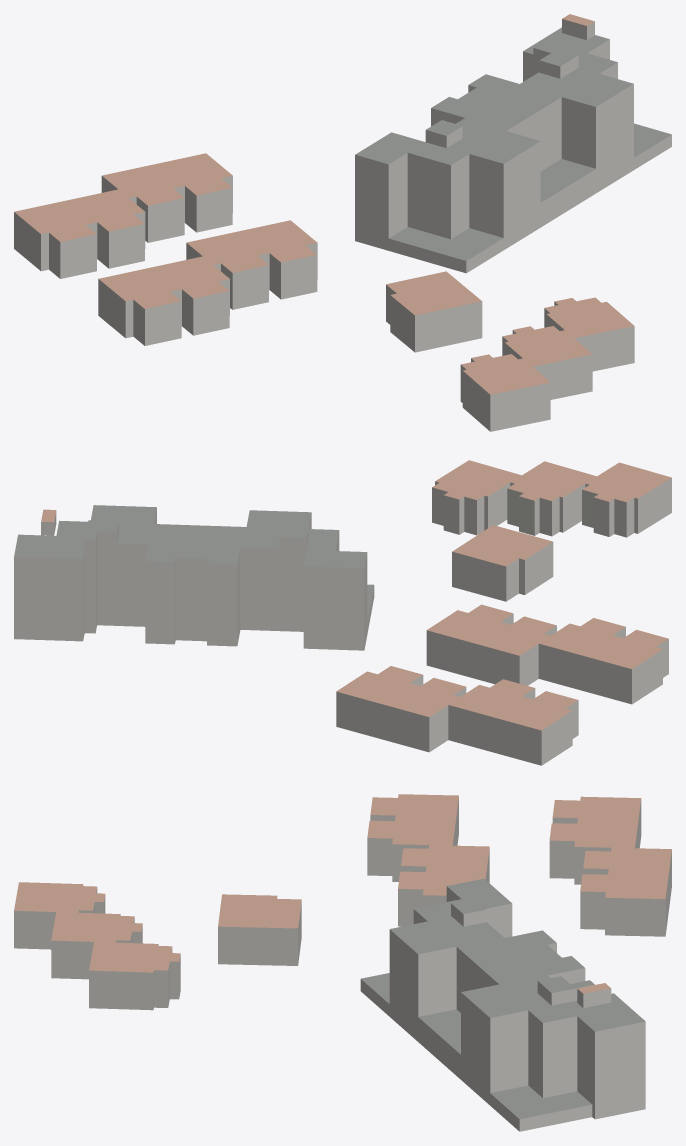
The model's file is gridID_19.dae.
The picture shows the model from 3 angles, top to bottom: view 1: azimuth 30°, elevation 25°; view 2: azimuth 150°, elevation 25°; view 3: azimuth 270°, elevation 25°; orthographic projection. The views are drawn at different scales.
Visible parts, largest first — view 1: model_gridID_19_w400178620, model_gridID_19_w389699491_001, model_gridID_19_w389699492_001, model_gridID_19_w389699491, model_gridID_19_w389699492, model_gridID_19_w389699502, model_gridID_19_w389699493, model_gridID_19_w389699489_001, model_gridID_19_w389699489; view 2: model_gridID_19_w400178620, model_gridID_19_w389699492_001, model_gridID_19_w389699491_001, model_gridID_19_w389699492, model_gridID_19_w389699491, model_gridID_19_w389699502, model_gridID_19_w389699493, model_gridID_19_w389699489_001, model_gridID_19_w389699489; view 3: model_gridID_19_w400178620, model_gridID_19_w389699492, model_gridID_19_w389699489_001, model_gridID_19_w389699492_001, model_gridID_19_w389699502, model_gridID_19_w389699491_001, model_gridID_19_w389699491, model_gridID_19_w389699489, model_gridID_19_w389699493.
Boxes of the visible parts, <box> form: model_gridID_19_w400178620: <box>355,14,671,273</box>; model_gridID_19_w389699491_001: <box>98,256,229,345</box>; model_gridID_19_w389699492_001: <box>14,189,145,278</box>; model_gridID_19_w389699491: <box>186,220,317,309</box>; model_gridID_19_w389699492: <box>101,153,232,242</box>; model_gridID_19_w389699502: <box>386,271,482,352</box>; model_gridID_19_w389699493: <box>460,354,550,431</box>; model_gridID_19_w389699489_001: <box>544,297,634,371</box>; model_gridID_19_w389699489: <box>502,326,592,399</box>; model_gridID_19_w400178620: <box>14,505,374,650</box>; model_gridID_19_w389699492_001: <box>448,679,578,765</box>; model_gridID_19_w389699491_001: <box>538,618,668,704</box>; model_gridID_19_w389699492: <box>336,666,466,752</box>; model_gridID_19_w389699491: <box>426,604,556,685</box>; model_gridID_19_w389699502: <box>452,525,553,601</box>; model_gridID_19_w389699493: <box>582,462,671,537</box>; model_gridID_19_w389699489_001: <box>432,460,521,535</box>; model_gridID_19_w389699489: <box>507,461,596,536</box>; model_gridID_19_w400178620: <box>360,878,645,1131</box>; model_gridID_19_w389699492: <box>580,847,671,936</box>; model_gridID_19_w389699489_001: <box>89,942,180,1010</box>; model_gridID_19_w389699492_001: <box>549,796,641,884</box>; model_gridID_19_w389699502: <box>218,894,301,965</box>; model_gridID_19_w389699491_001: <box>367,794,458,881</box>; model_gridID_19_w389699491: <box>398,845,489,926</box>; model_gridID_19_w389699489: <box>51,912,142,979</box>; model_gridID_19_w389699493: <box>14,882,105,949</box>.
Bounding box in the file's own units: 128 × 119 × 23.
